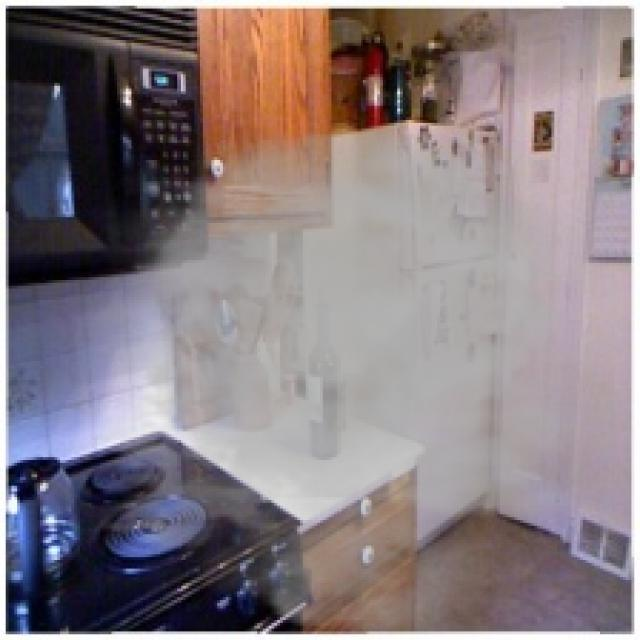smoke: (46, 103, 614, 634)
